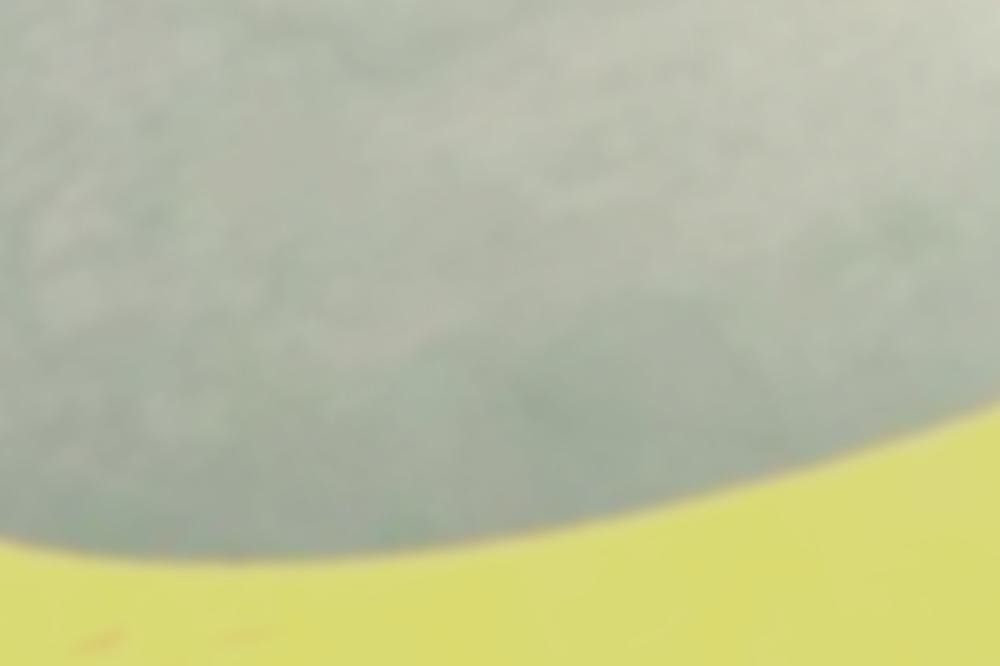Apron: (1, 56, 999, 663)
